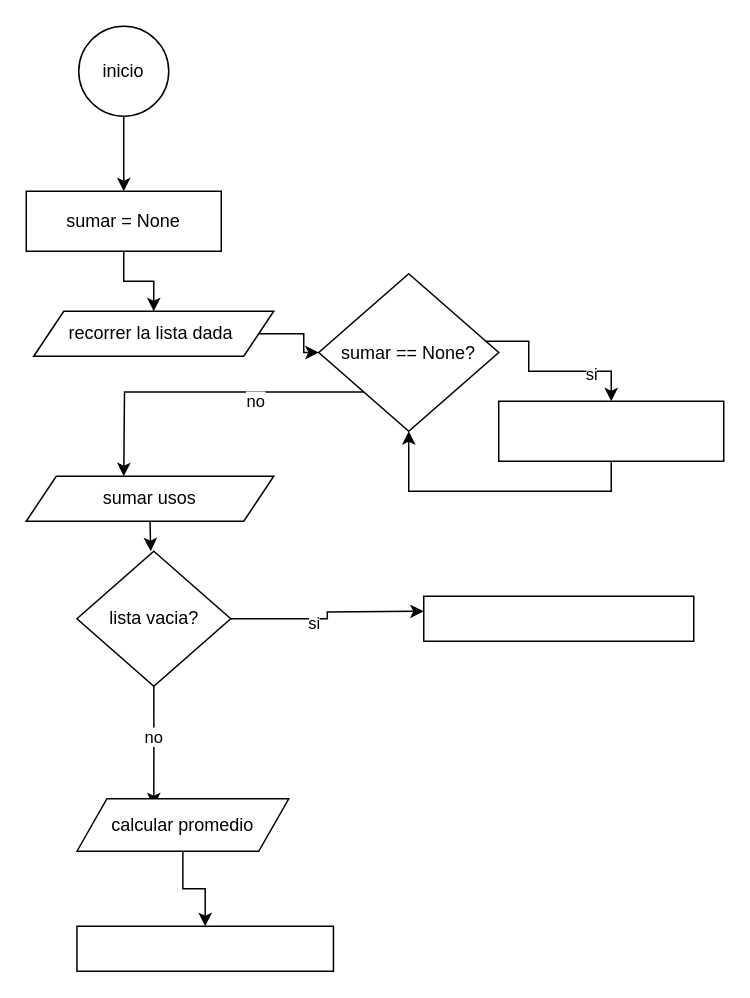
Some shapes in this 750 by 998 pixel diagram are drawn without their labels. The box of each missing label's shape, as (x1, y1, x2, y2) in pixels:
devolver = "no se puede dividir x 0": (422, 595, 694, 641)
devolver promedio: (75, 925, 333, 971)
sumar = usos: (497, 400, 724, 461)
